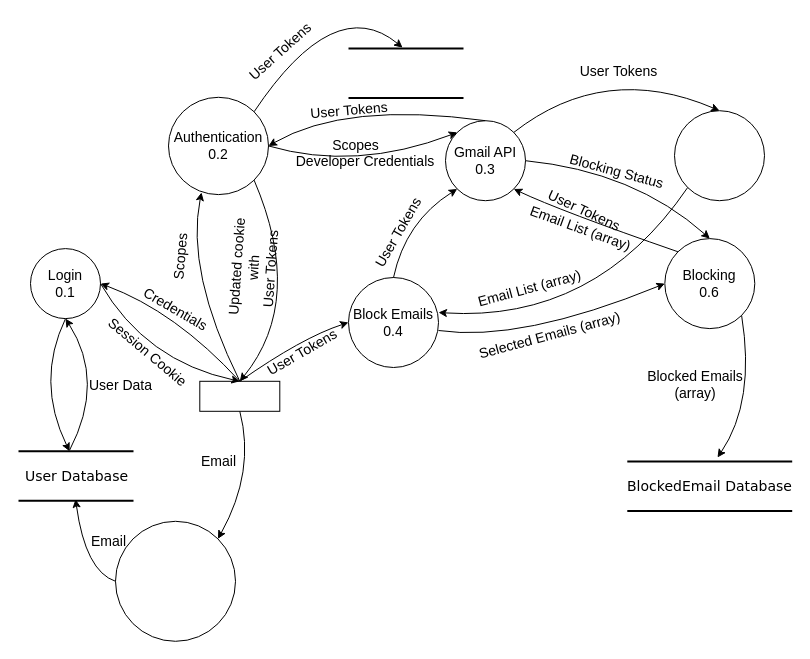
This 810x659 diagram has some shape labels left out. Each missing label, with the centre of its shape:
Auth Database: point (405, 72)
Delete Registered Emails 0.8: point (175, 580)
End User: point (239, 395)
Fetch Inbox 0.5: point (719, 155)
